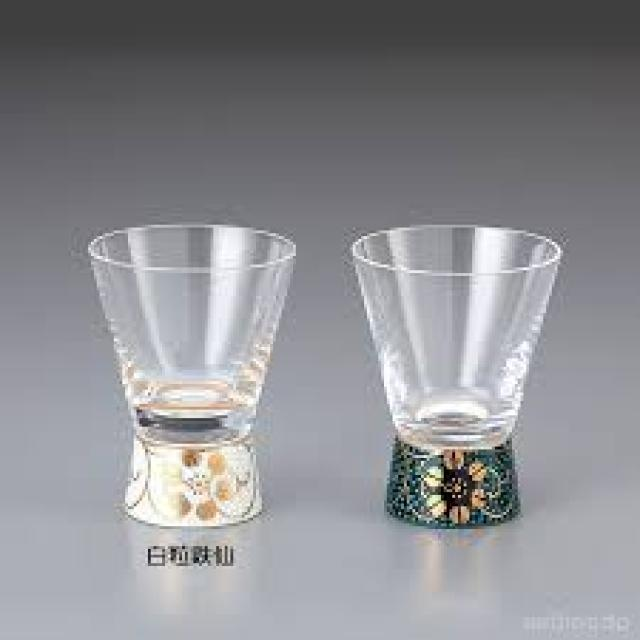glass: (347, 222, 560, 526), (85, 219, 296, 523)
